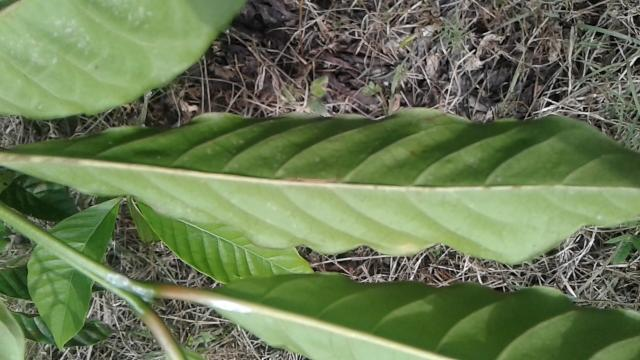rust_level_1: (0, 100, 640, 268)
